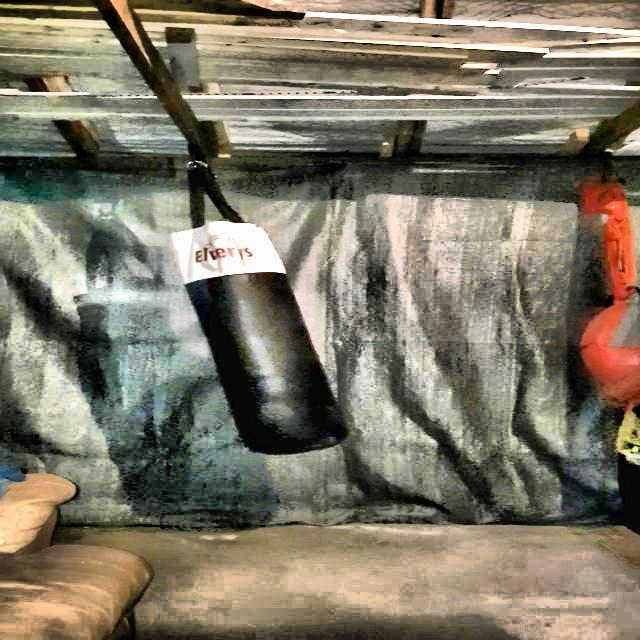boxing-bag: (168, 141, 352, 460)
